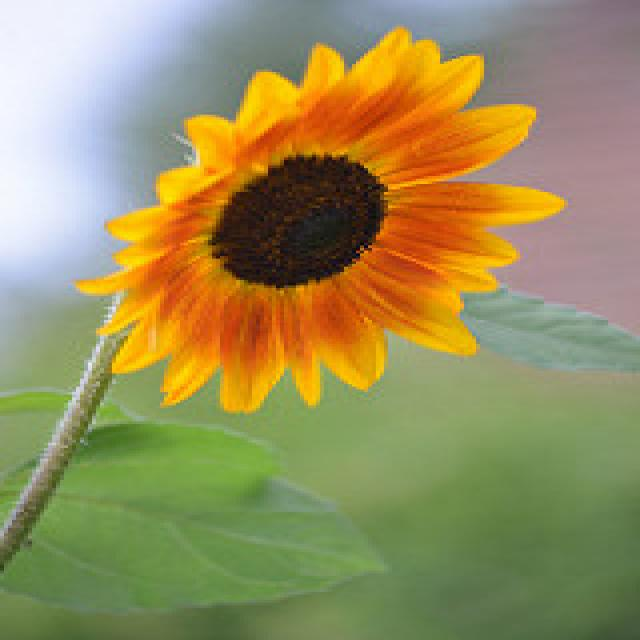sunflower: (81, 25, 568, 407)
